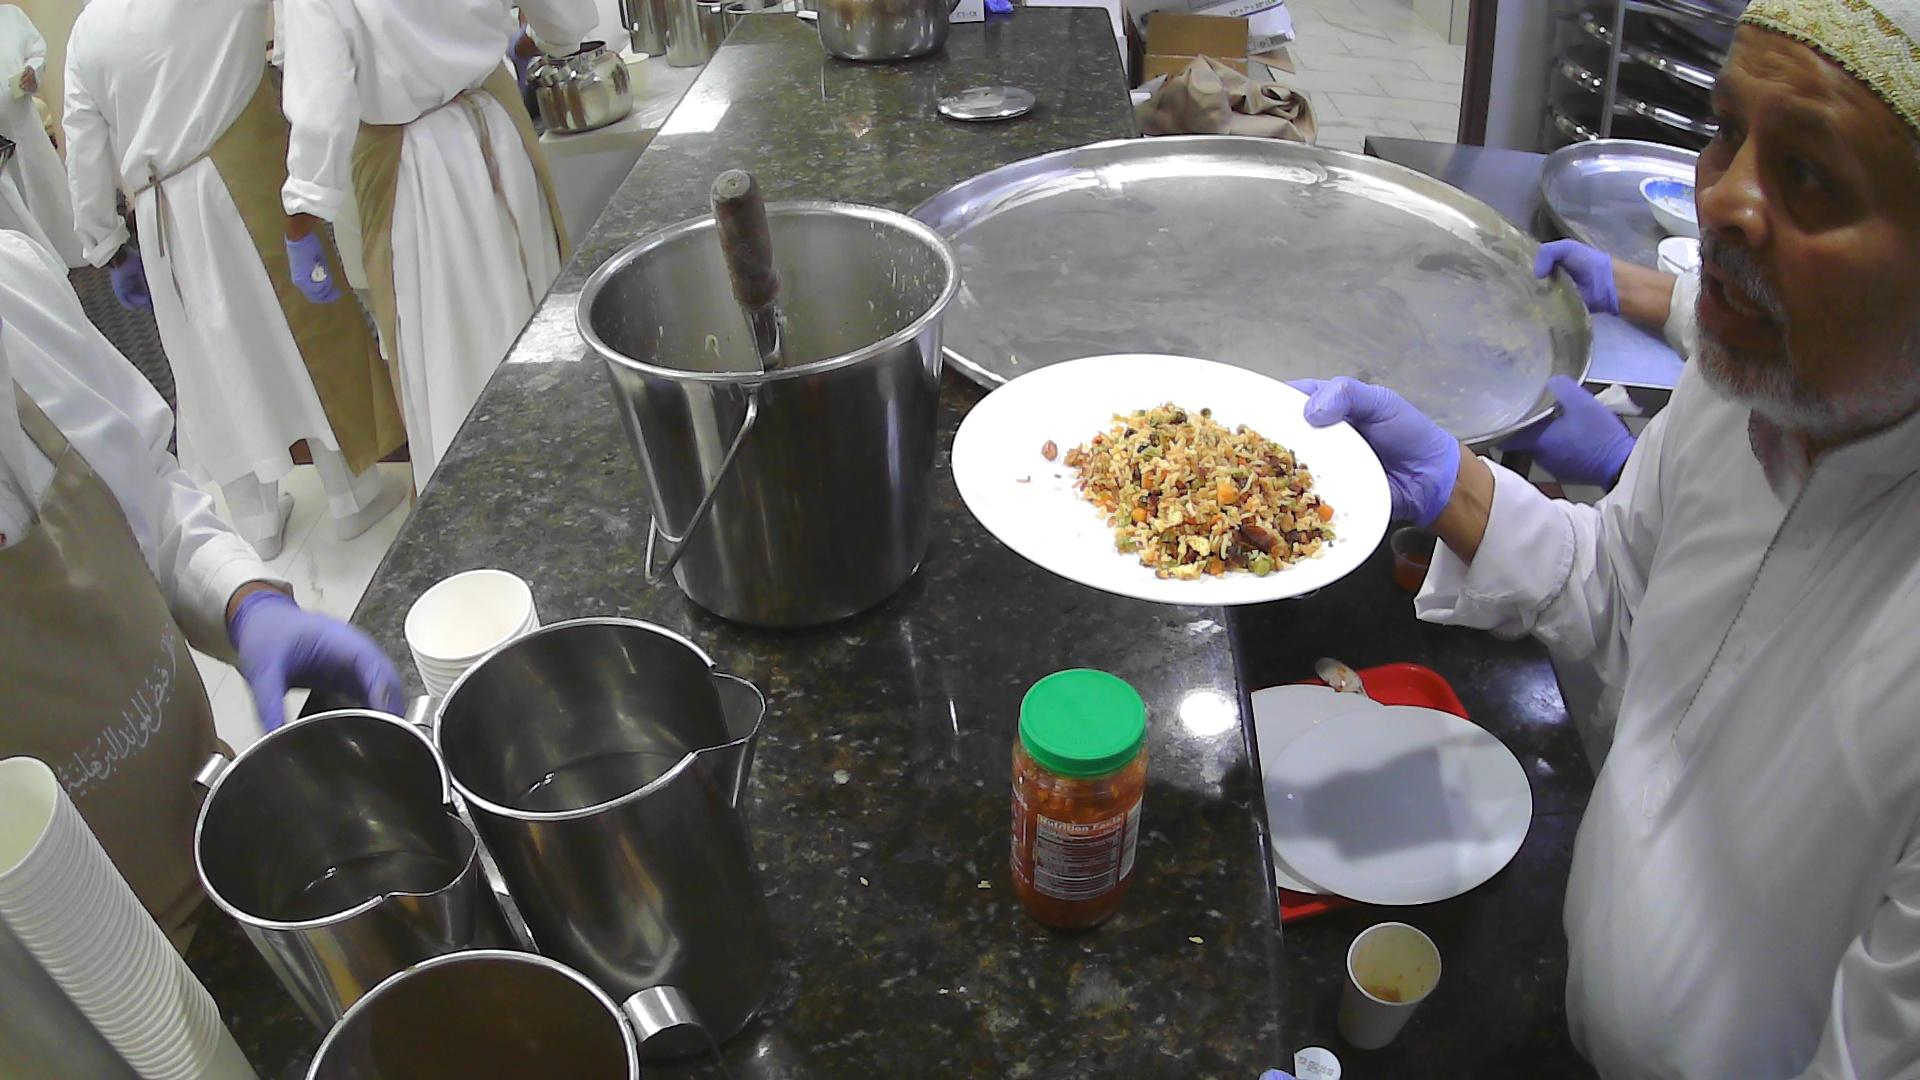thaal: (874, 131, 1600, 468), (1536, 128, 1741, 305)
